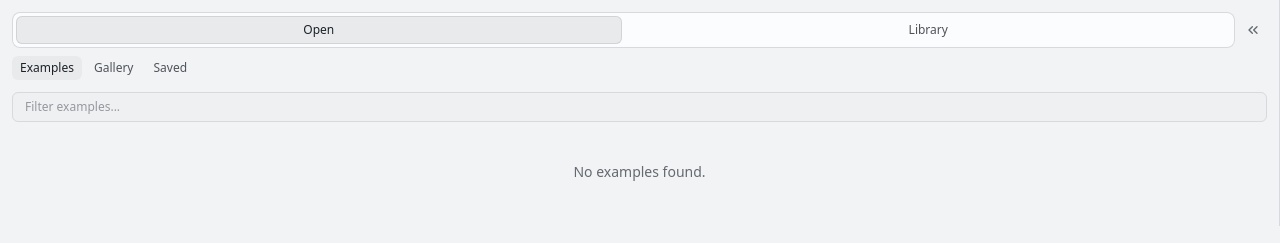
LeftSidebar community gallery › lists designs with their author and filters on tags
Click the button titled "Community designs": {"x": 114, "y": 68} [86,56,142,80]
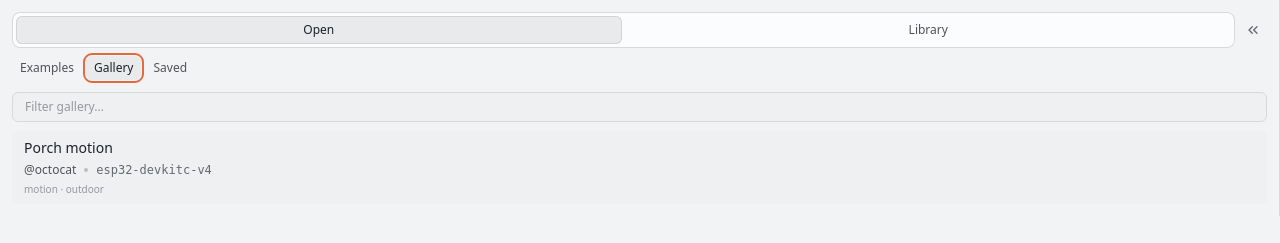
Now the text "@octocat" is shown, box [24,162,76,178]
In the search field: {"x": 640, "y": 107} [12,92,1267,122], type "outdoor"
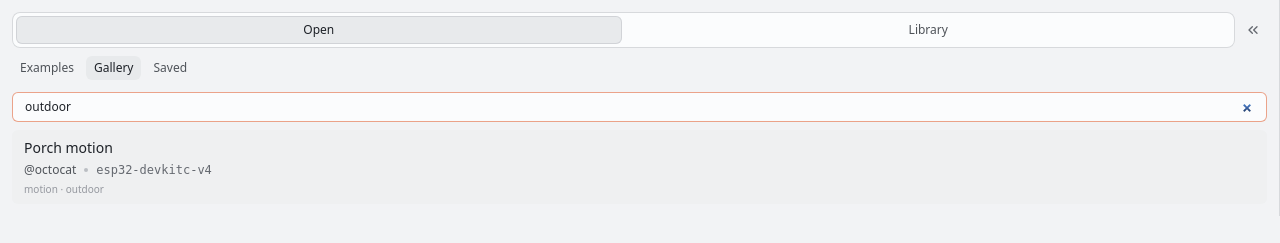
Click the text "Porch motion": {"x": 68, "y": 148} [24,138,113,158]
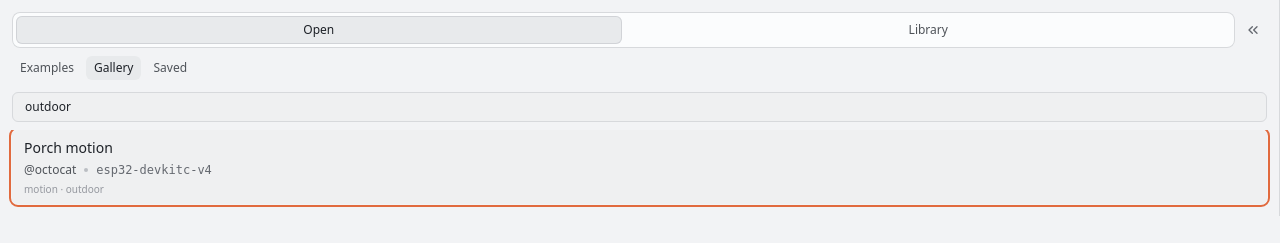
Replace the text in the search field with "nomatch": {"x": 640, "y": 107} [12,92,1267,122]
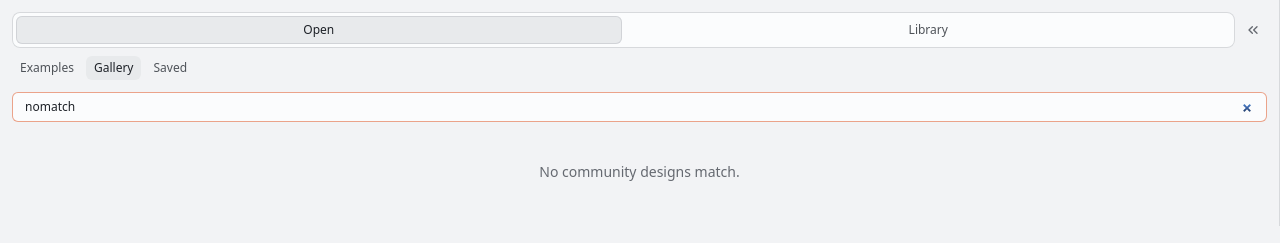
Now the text "No community designs match." is shown, box [539,162,740,181]
